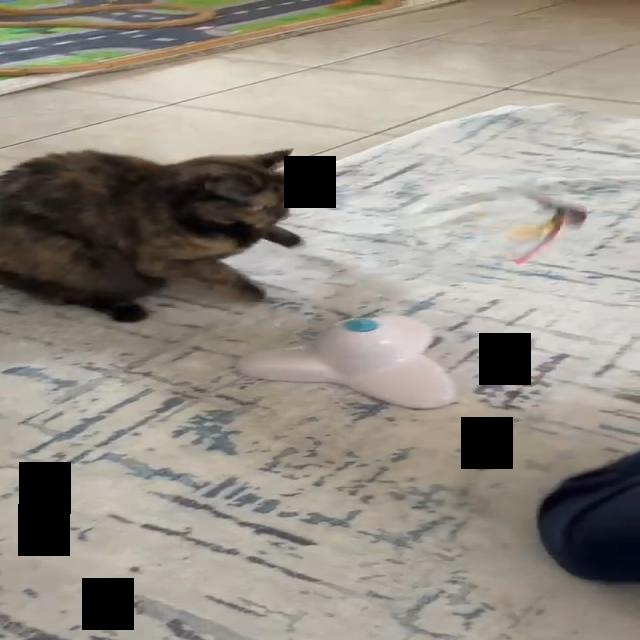authorized: (0, 146, 301, 322)
